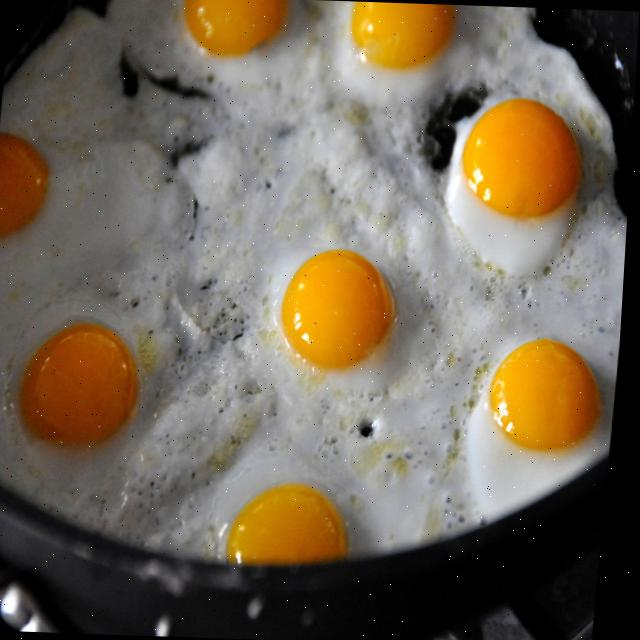Egg: (3, 220, 270, 550), (225, 167, 466, 530), (473, 338, 617, 518), (449, 99, 583, 274), (111, 0, 290, 85), (335, 1, 455, 106)
